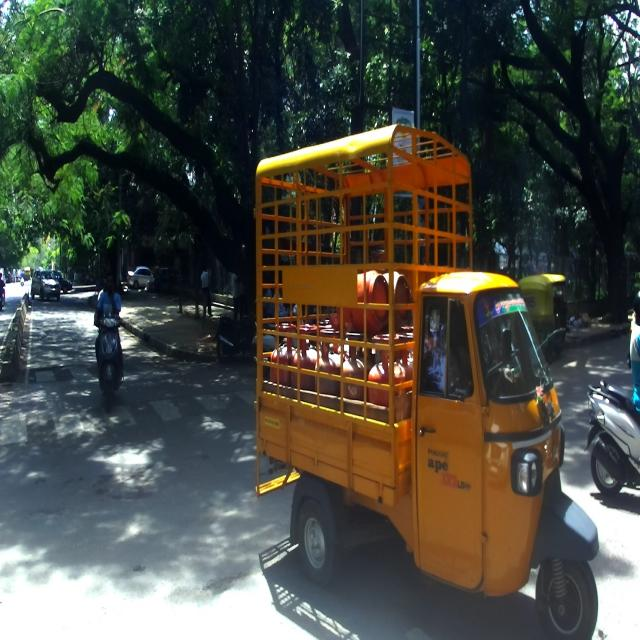autorickshaw: (253, 123, 599, 639)
scooter: (584, 377, 640, 496), (92, 313, 124, 412)
